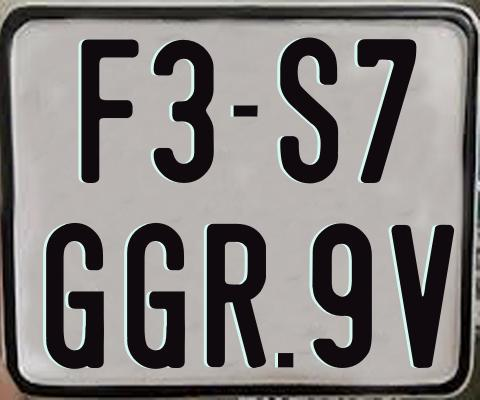3: (153, 40, 219, 188)
7: (354, 36, 416, 186)
9: (311, 220, 374, 368)
F: (80, 39, 138, 184)
G: (43, 220, 103, 367), (126, 223, 185, 370)
R: (206, 222, 266, 372)
S: (280, 34, 343, 182)
V: (389, 224, 454, 373)
